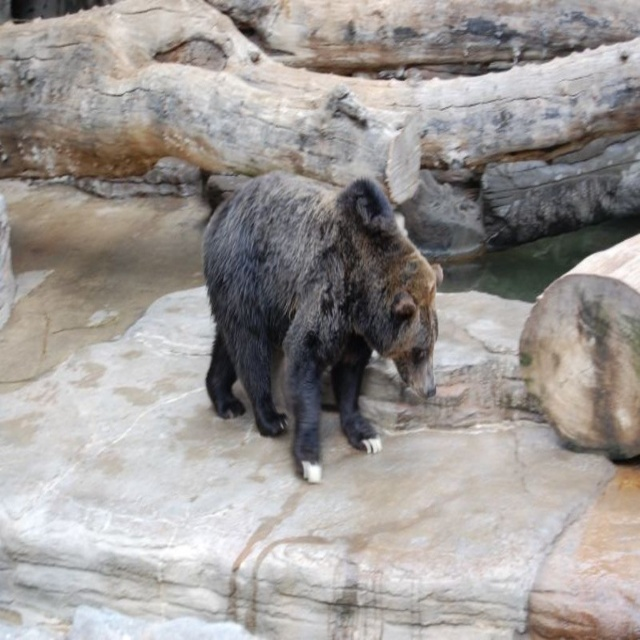Bear: (202, 177, 439, 480)
